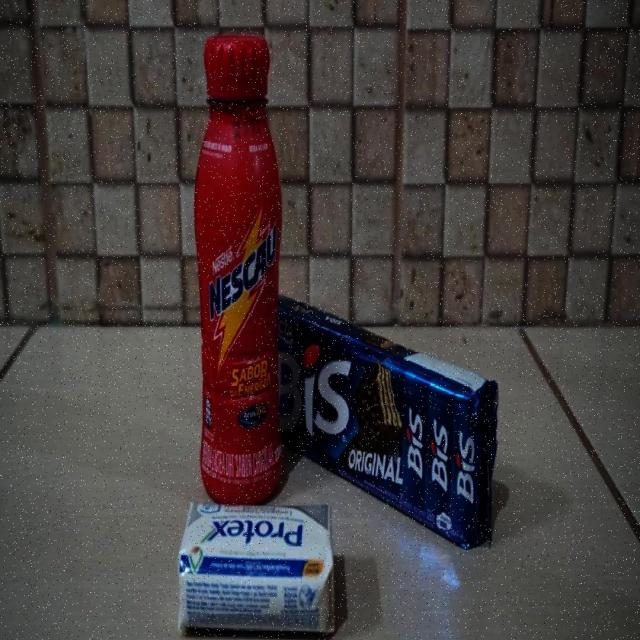ChocolateMilk: (192, 34, 286, 502)
Soap: (174, 501, 336, 640)
